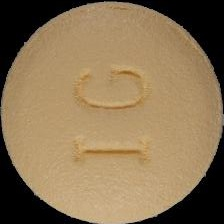68788-6435: (0, 0, 224, 224)
